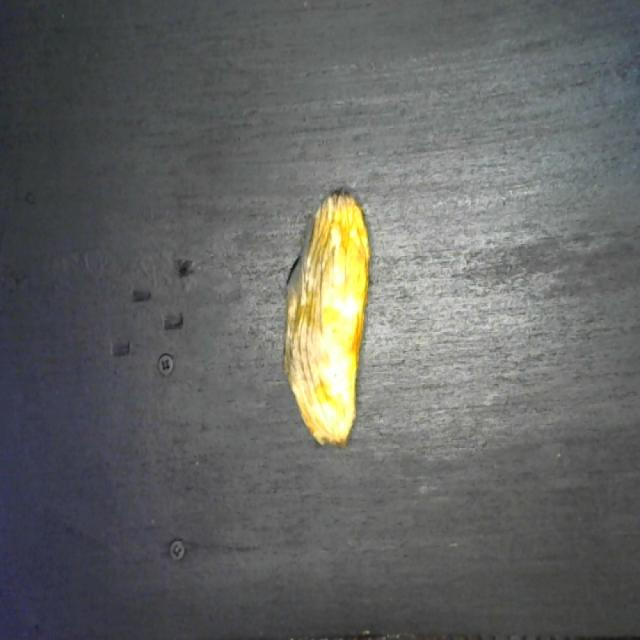biodegradable: (277, 181, 381, 463)
